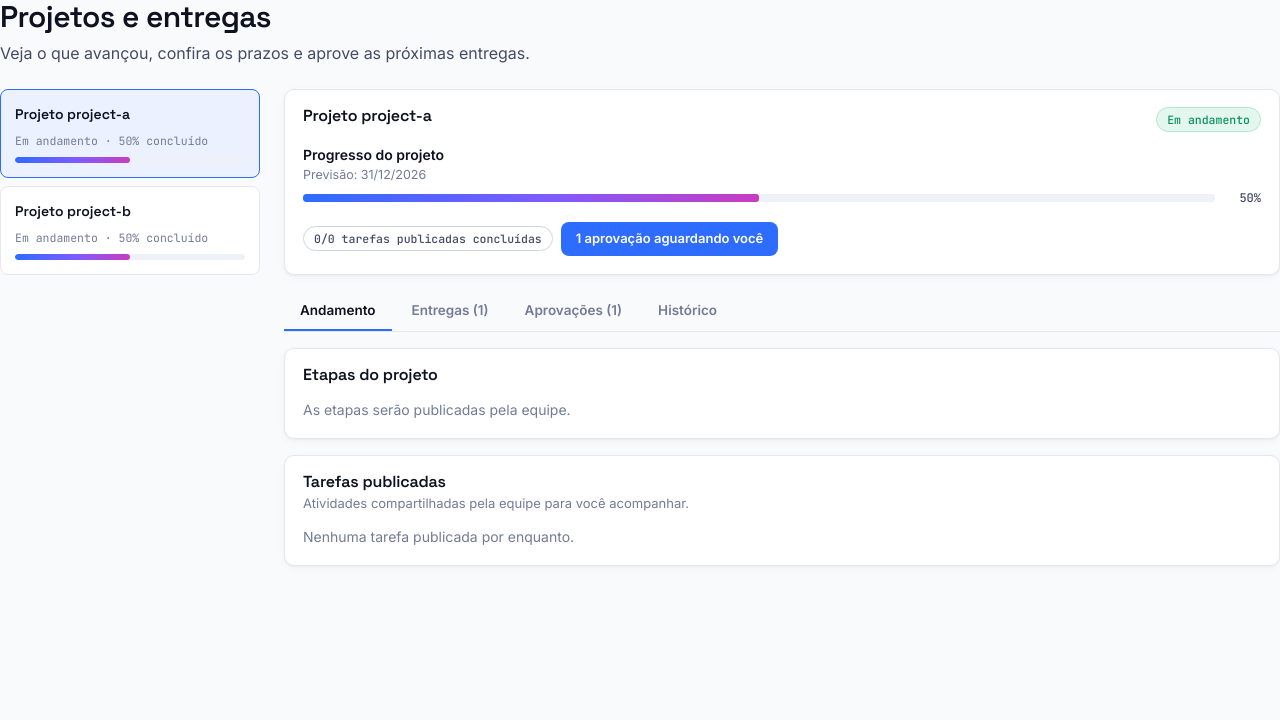
Test: PortalProjectsPage › does not register anything when the approval dialog is cancelled
Press the mouse on the tab "Aprovações (1)" at (573, 311), box [509,291,638,331]
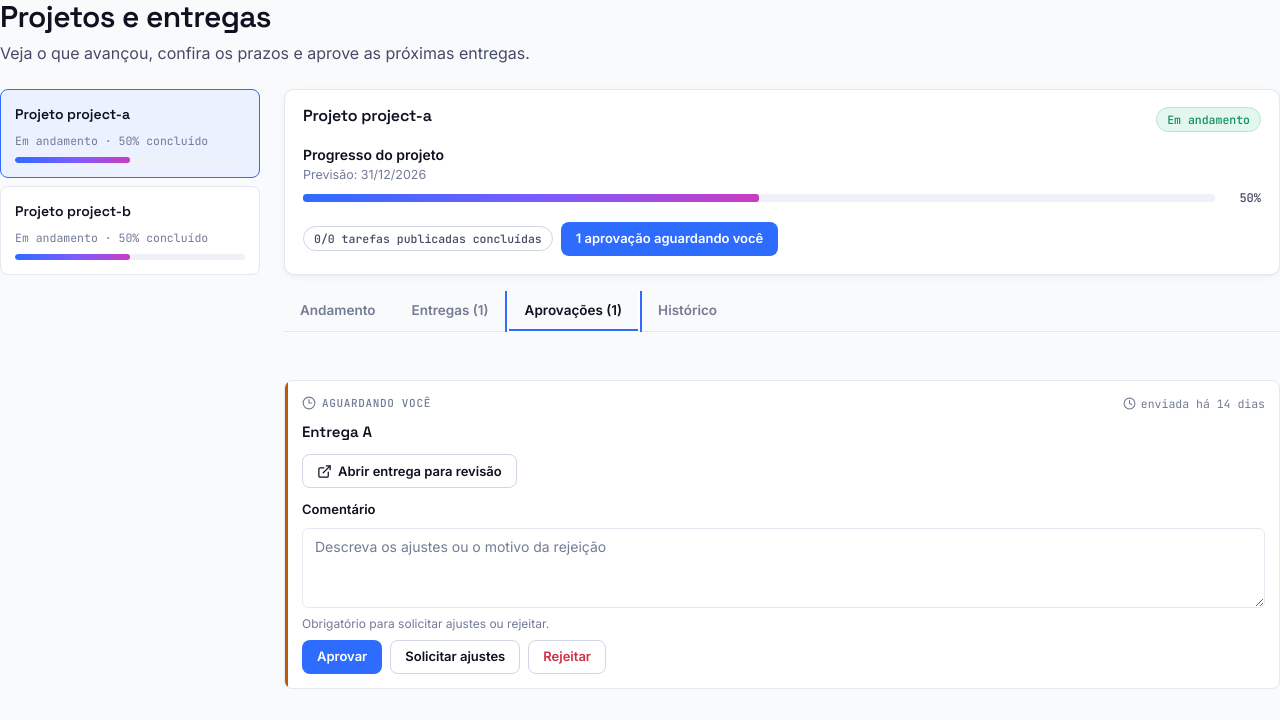
Click the button "Aprovar" at (342, 657), box [302,640,382,674]
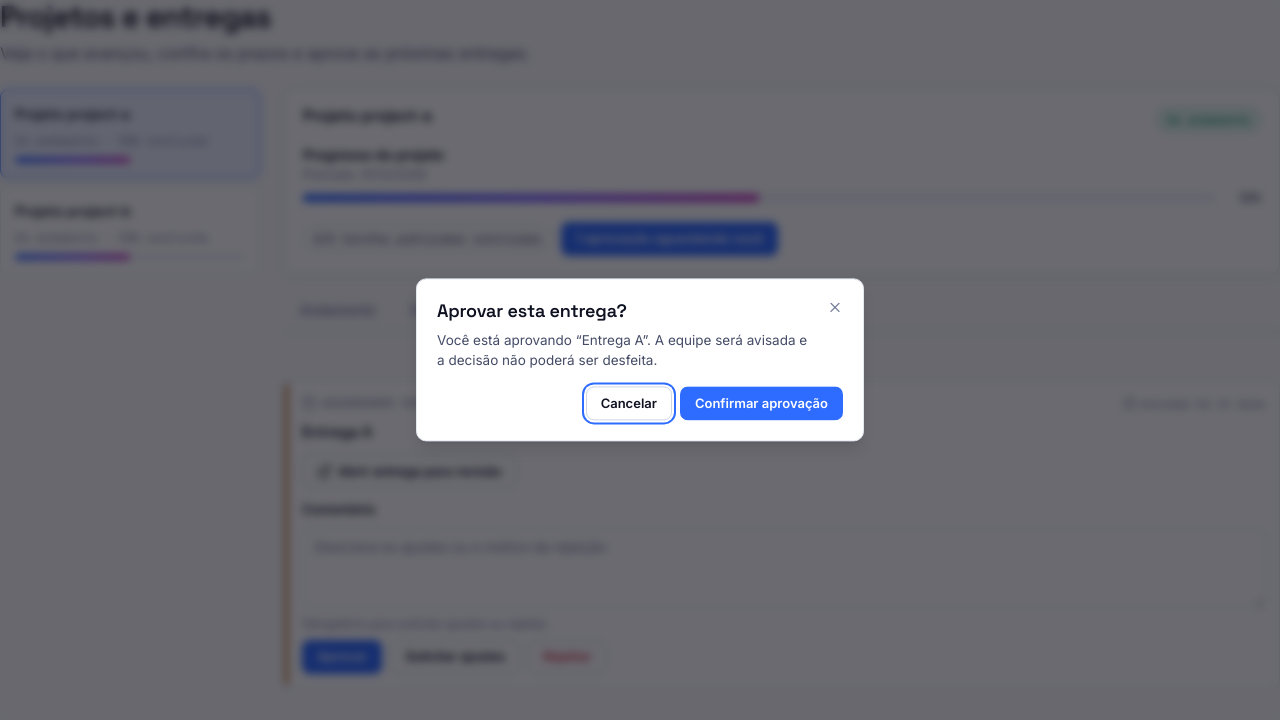
Click the button "Cancelar" at (629, 404), box [586,387,672,421]
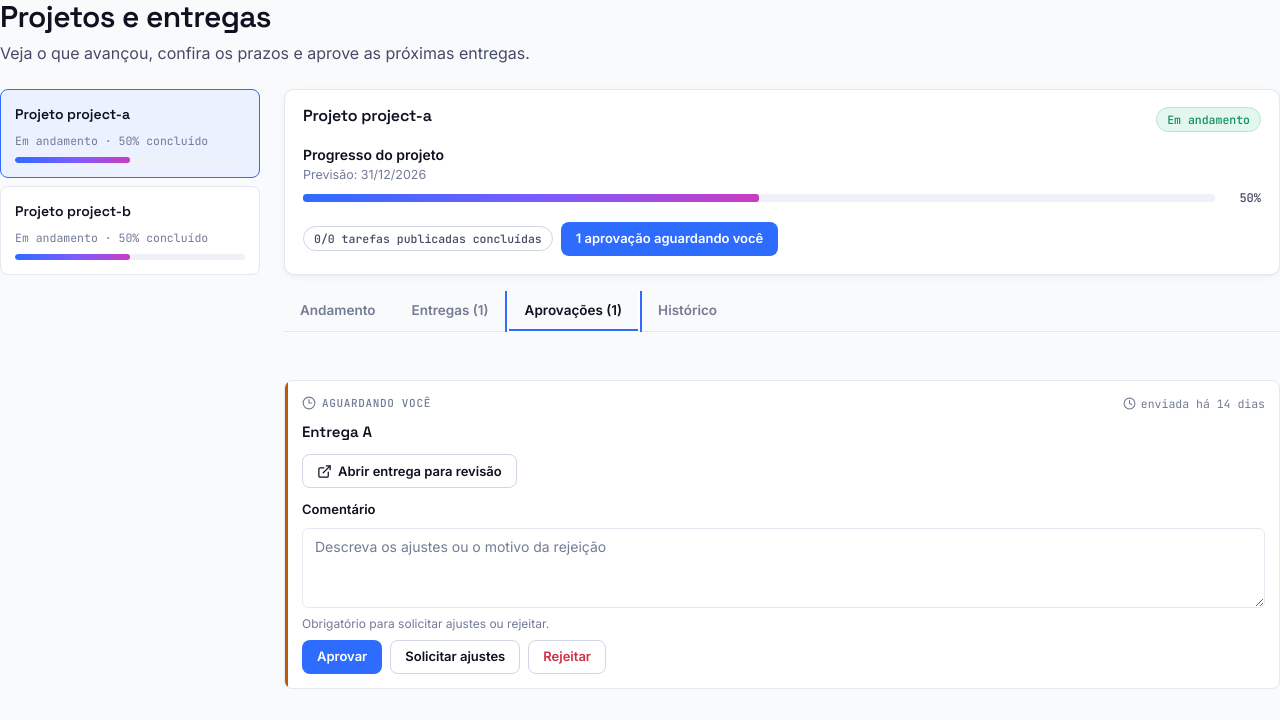
Expected: the text "Aprovar esta entrega?" is gone
